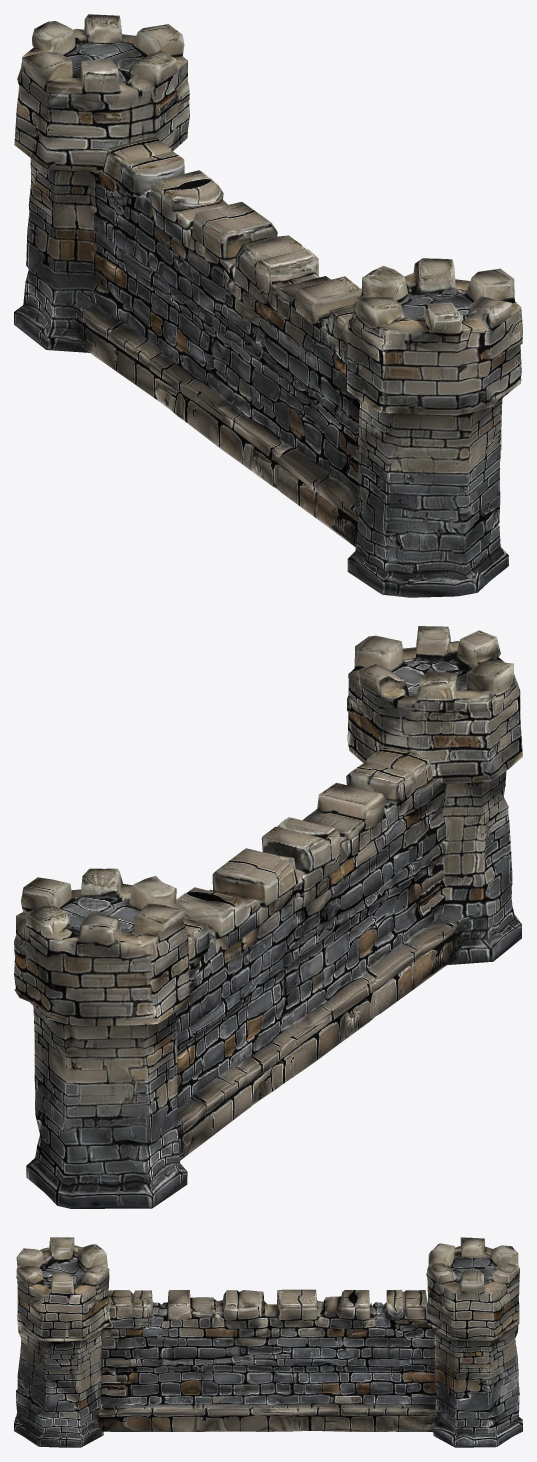
File: muros.glb
3 renders of one model, top to bottom at view 1: azimuth 30°, elevation 25°; view 2: azimuth 150°, elevation 25°; view 3: azimuth 270°, elevation 25°, orthographic. The views are drawn at different scales.
Visible parts, largest first — view 1: tripo_node_55c4d7aa-cd35-4049-a288-b932bb6490bc; view 2: tripo_node_55c4d7aa-cd35-4049-a288-b932bb6490bc; view 3: tripo_node_55c4d7aa-cd35-4049-a288-b932bb6490bc.
Boxes of the visible parts, bbox=[...] form: tripo_node_55c4d7aa-cd35-4049-a288-b932bb6490bc: bbox=[14, 14, 522, 597]; tripo_node_55c4d7aa-cd35-4049-a288-b932bb6490bc: bbox=[14, 626, 522, 1208]; tripo_node_55c4d7aa-cd35-4049-a288-b932bb6490bc: bbox=[14, 1237, 522, 1447].
Bounding box in the file's own units: 0.2041 × 0.3773 × 0.999.
Materials: 1 (1 with a texture image).
